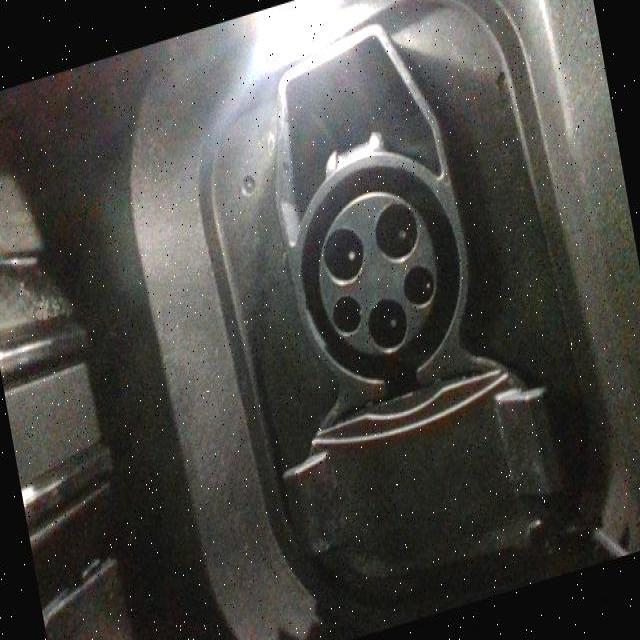Type 1: (305, 177, 454, 368)
